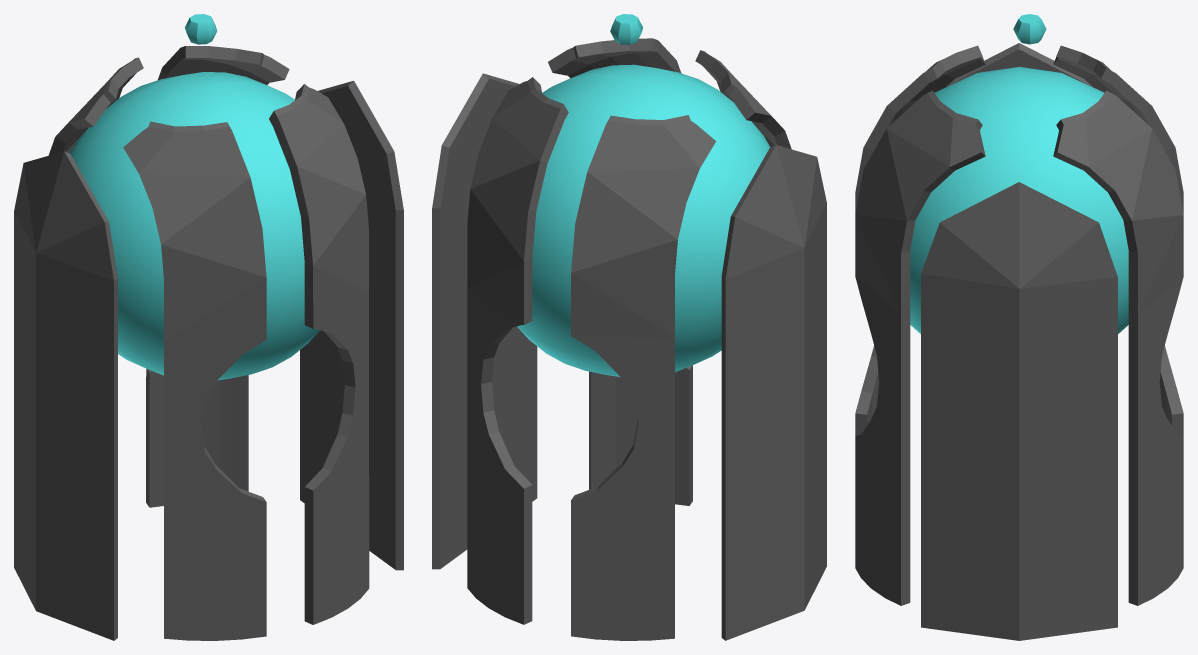
The model's file is Heleur_EMP.fbx.
3 views of the same model, side by side, from view 1: azimuth 30°, elevation 25°; view 2: azimuth 150°, elevation 25°; view 3: azimuth 270°, elevation 25° (orthographic). The views are drawn at different scales.
Parts seen in each view (by area): view 1: shield2, sideshield4, pSphere2, shield3, sideshield1, shield4, shield5, pCylinder2; view 2: shield5, sideshield4, pSphere2, shield4, sideshield1, shield3, shield2, pCylinder2; view 3: sideshield1, shield3, shield4, pSphere2, shield2, shield5, sideshield4, pCylinder2.
Boxes of the visible parts, x1,y1,x2,y2 form: shield2: [123, 121, 266, 640]; sideshield4: [14, 151, 117, 640]; pSphere2: [70, 72, 319, 380]; shield3: [269, 84, 369, 624]; sideshield1: [300, 80, 403, 570]; shield4: [146, 46, 289, 507]; shield5: [48, 57, 143, 155]; pCylinder2: [184, 14, 217, 44]; shield5: [571, 115, 715, 640]; sideshield4: [721, 145, 826, 640]; pSphere2: [517, 64, 769, 376]; shield4: [467, 77, 568, 624]; sideshield1: [432, 73, 537, 569]; shield3: [548, 38, 692, 505]; shield2: [695, 50, 791, 149]; pCylinder2: [610, 14, 643, 44]; sideshield1: [921, 182, 1117, 640]; shield3: [855, 90, 985, 605]; shield4: [1053, 90, 1183, 605]; pSphere2: [910, 67, 1128, 333]; shield2: [855, 45, 985, 435]; shield5: [1053, 45, 1183, 435]; sideshield4: [946, 43, 1092, 86]; pCylinder2: [1013, 14, 1046, 44].
Size of the model in its own units: 10.4 by 15.72 by 8.7.
